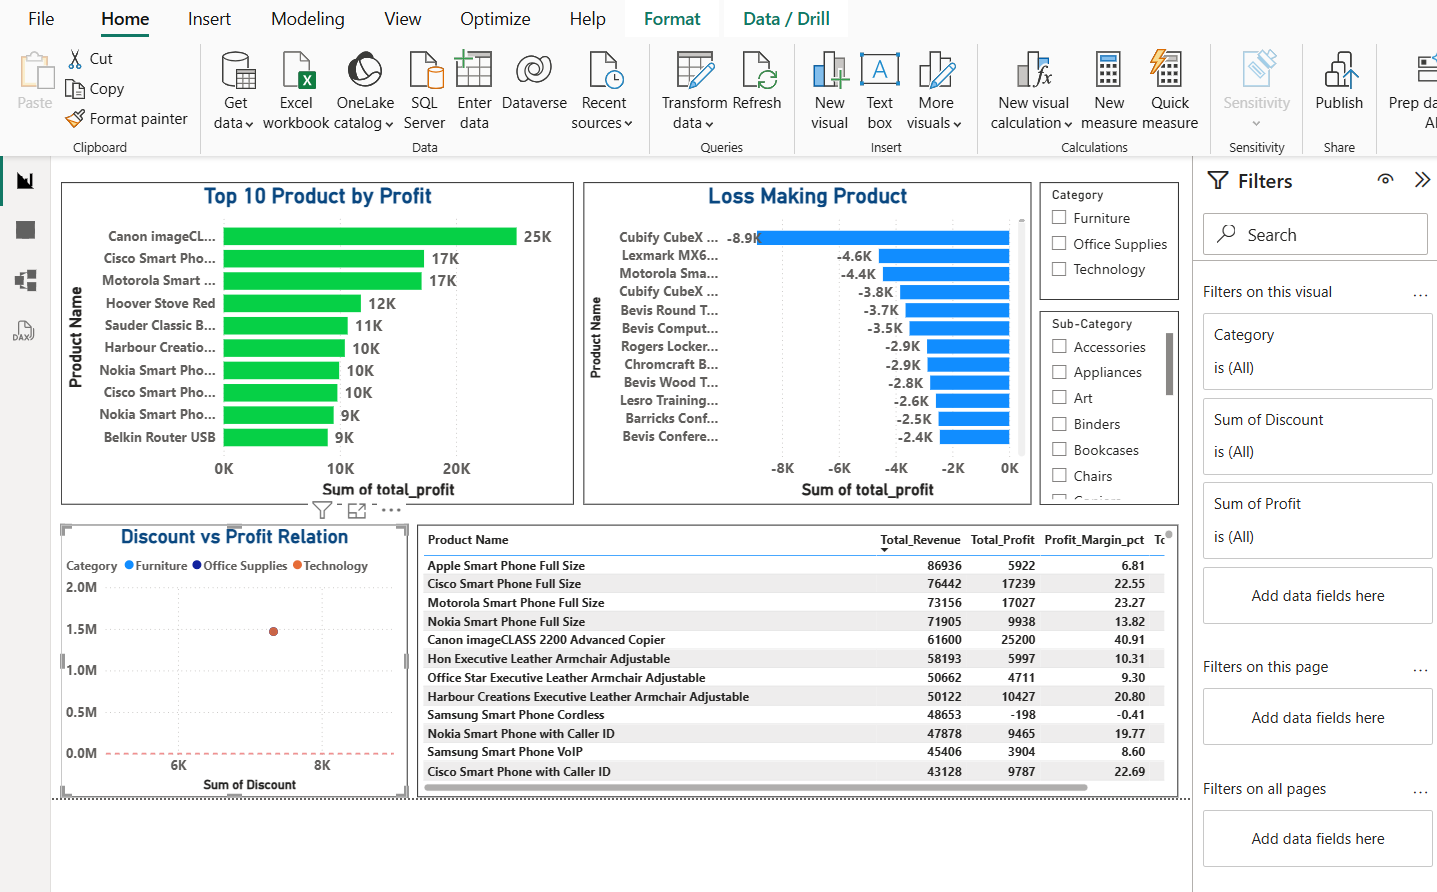

Layout of this report page (visuals, bound fields, positions):
{"tool":"powerbi","page":{"name":"Product Analysis","canvas":[1280,720],"ordinal":2},"visuals":[{"type":"barChart","title":"Top 10 Product by Profit","fields":{"Category":["top_products.Product Name"],"Y":["Sum(top_products.total_profit)"]},"box":[11.2,29.4,574.9,361.8],"z":0},{"type":"clusteredBarChart","title":"Loss Making Product","fields":{"Category":["top_products.Product Name"],"Y":["Sum(top_products.total_profit)"]},"box":[597.4,29.4,502,361.8],"z":1000},{"type":"scatterChart","title":"Discount vs Profit Relation","fields":{"Y":["Sum(superstore_pipe.Profit)"],"Series":["top_products.Category"],"X":["Sum(superstore_pipe.Discount)"]},"box":[11.2,413.7,388.4,305.7],"z":2000},{"type":"tableEx","fields":{"Values":["top_products.Product Name","top_products.total_revenue","top_products.total_profit","top_products.profit_margin_pct","top_products.total_units_sold"]},"box":[410.9,413.7,854,305.7],"z":3000},{"type":"slicer","fields":{"Values":["top_products.Sub-Category"]},"box":[1109.2,173.9,155.7,217.4],"z":4000},{"type":"slicer","fields":{"Values":["top_products.Category"]},"box":[1109.2,29.4,155.7,131.8],"z":5000}]}

Visuals, with their boxes on the page's 1280x720 design canvas (x1, y1, x2, y2). These are canvas units, not pixel positions in the 1437x892 screenshot, which may show the page scaled, cropped or inside an application window:
"Top 10 Product by Profit" barChart: [11,29,586,391]
"Loss Making Product" clusteredBarChart: [597,29,1099,391]
"Discount vs Profit Relation" scatterChart: [11,414,400,719]
tableEx - top_products.Product Name x top_products.total_revenue: [411,414,1265,719]
slicer - top_products.Sub-Category: [1109,174,1265,391]
slicer - top_products.Category: [1109,29,1265,161]
